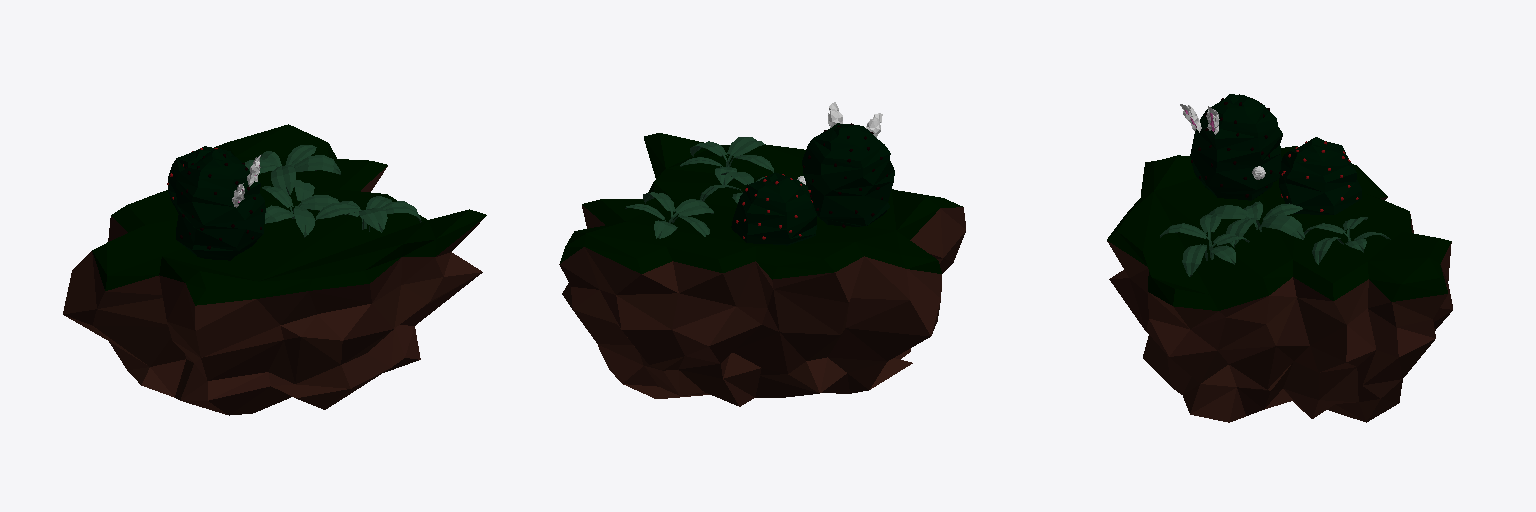
Rendered from rabbitIsland.obj.
3 views of the same model, side by side, from view 1: azimuth 30°, elevation 25°; view 2: azimuth 150°, elevation 25°; view 3: azimuth 270°, elevation 25° (orthographic).
Visible parts, largest first — view 1: Plane_Plane.001, Sphere.001_Sphere.002, Sphere.106_Sphere.107, leaf.012_Plane.015, leaf.013_Plane.016; view 2: Plane_Plane.001, Sphere.001_Sphere.002, Sphere.106_Sphere.107; view 3: Plane_Plane.001, Sphere.001_Sphere.002, Sphere.106_Sphere.107, leaf.002_Plane.005, leaf.007_Plane.010.
Boxes of the visible parts, <box> form: Plane_Plane.001: <box>63,124,486,415</box>; Sphere.001_Sphere.002: <box>176,150,265,260</box>; Sphere.106_Sphere.107: <box>168,146,233,213</box>; leaf.012_Plane.015: <box>294,155,340,174</box>; leaf.013_Plane.016: <box>271,165,295,194</box>; Plane_Plane.001: <box>559,133,965,406</box>; Sphere.001_Sphere.002: <box>802,123,894,226</box>; Sphere.106_Sphere.107: <box>731,172,816,245</box>; Plane_Plane.001: <box>1107,146,1452,422</box>; Sphere.001_Sphere.002: <box>1190,94,1282,200</box>; Sphere.106_Sphere.107: <box>1279,137,1361,214</box>; leaf.002_Plane.005: <box>1259,215,1304,239</box>; leaf.007_Plane.010: <box>1182,244,1207,276</box>.
Size of the model in its own units: 2.03 by 1.48 by 1.72.